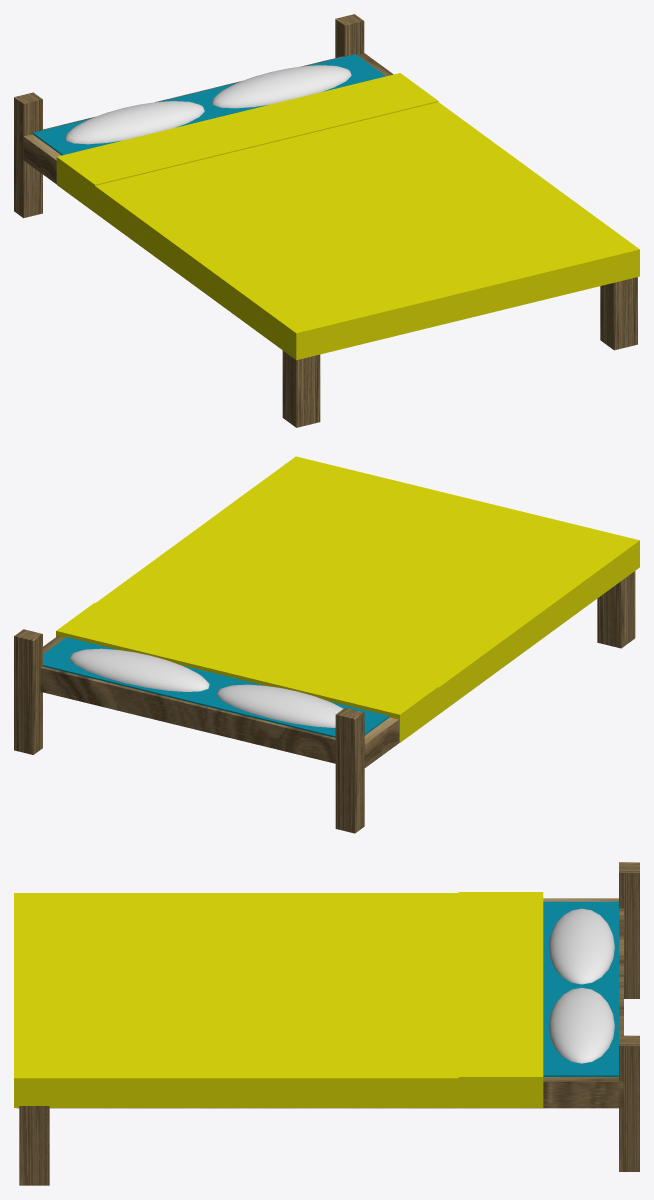
Rendered from Less Blocky bed.fbx.
3 views of the same model, one above another, from view 1: azimuth 30°, elevation 25°; view 2: azimuth 150°, elevation 25°; view 3: azimuth 270°, elevation 25° (orthographic). The views are drawn at different scales.
Parts seen in each view (by area): view 1: polySurface42, pSphere7, pSphere6, polySurface38, polySurface45, polySurface44, polySurface41, polySurface39, polySurface46; view 2: polySurface42, polySurface39, polySurface38, pSphere7, polySurface45, polySurface46, pSphere6, polySurface44; view 3: polySurface42, polySurface38, polySurface39, pSphere7, pSphere6, polySurface46, polySurface41, polySurface45.
Boxes of the visible parts, bbox=[...] form: polySurface42: bbox=[56, 73, 639, 360]; pSphere7: bbox=[212, 65, 351, 108]; pSphere6: bbox=[65, 101, 204, 144]; polySurface38: bbox=[32, 54, 385, 155]; polySurface45: bbox=[14, 92, 42, 218]; polySurface44: bbox=[282, 350, 320, 427]; polySurface41: bbox=[600, 277, 637, 350]; polySurface39: bbox=[23, 53, 393, 183]; polySurface46: bbox=[335, 14, 364, 57]; polySurface42: bbox=[56, 456, 639, 742]; polySurface39: bbox=[40, 636, 399, 767]; polySurface38: bbox=[43, 637, 389, 737]; pSphere7: bbox=[69, 648, 209, 691]; polySurface45: bbox=[335, 707, 364, 833]; polySurface46: bbox=[14, 629, 42, 754]; pSphere6: bbox=[216, 684, 343, 727]; polySurface44: bbox=[597, 571, 635, 648]; polySurface42: bbox=[14, 892, 543, 1107]; polySurface38: bbox=[543, 901, 619, 1076]; polySurface39: bbox=[17, 898, 623, 1108]; pSphere7: bbox=[548, 987, 614, 1063]; pSphere6: bbox=[548, 908, 614, 984]; polySurface46: bbox=[619, 1035, 639, 1171]; polySurface41: bbox=[19, 1106, 49, 1185]; polySurface45: bbox=[619, 862, 639, 998].
Bounding box in the file's own units: 7.42 × 2.58 × 10.58.
4 materials, 1 textured.
